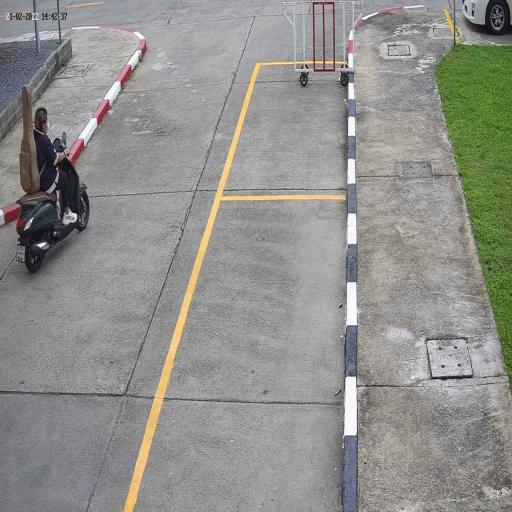motorcycle: (14, 179, 92, 275)
